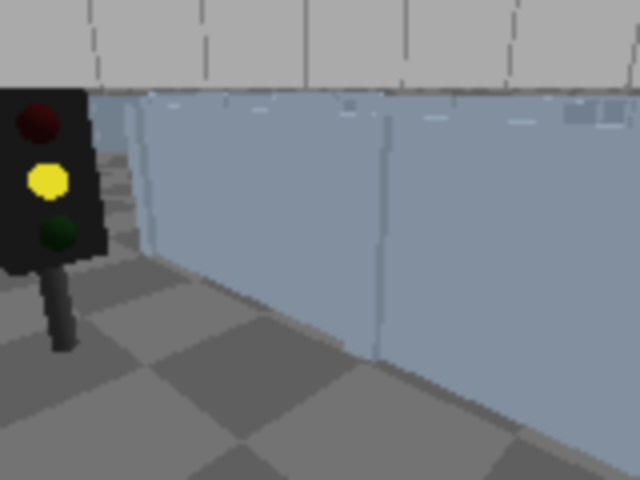traffic_light: (0, 69, 123, 380)
